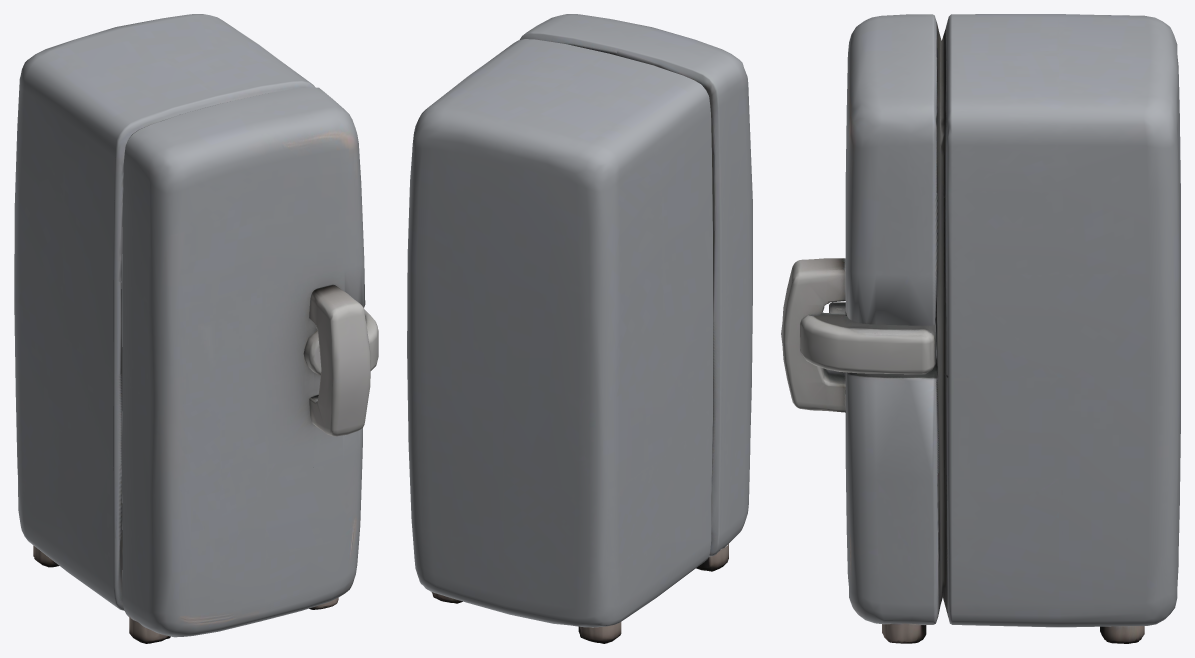
The model's file is 019dfcca-ccca-7f3b-a426-012f4adf5f4b.glb.
The picture shows the model from 3 angles, left to right: view 1: azimuth 30°, elevation 25°; view 2: azimuth 150°, elevation 25°; view 3: azimuth 270°, elevation 25°; orthographic projection. The views are drawn at different scales.
Visible parts, largest first — view 1: tripo_node_f0826310-5e5c-436f-abfc-87ac6f191ed0; view 2: tripo_node_f0826310-5e5c-436f-abfc-87ac6f191ed0; view 3: tripo_node_f0826310-5e5c-436f-abfc-87ac6f191ed0.
Boxes of the visible parts, box(x1,y1,x2,y2) form: tripo_node_f0826310-5e5c-436f-abfc-87ac6f191ed0: box(14, 14, 378, 643); tripo_node_f0826310-5e5c-436f-abfc-87ac6f191ed0: box(407, 14, 752, 643); tripo_node_f0826310-5e5c-436f-abfc-87ac6f191ed0: box(781, 14, 1180, 643).
Bounding box in the file's own units: 0.4473 × 0.998 × 0.666.
Materials: 1 (1 with a texture image).
